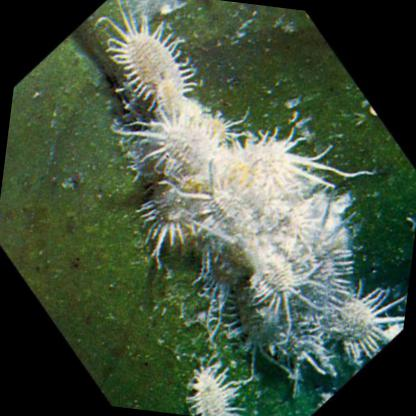mealy bug: (102, 2, 195, 105), (113, 111, 218, 181), (243, 236, 321, 323), (322, 281, 406, 361), (189, 365, 236, 416)
